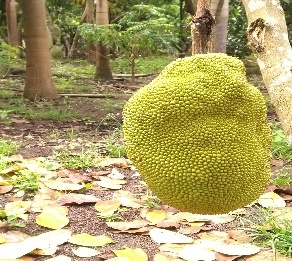Mit: (123, 52, 277, 215)
